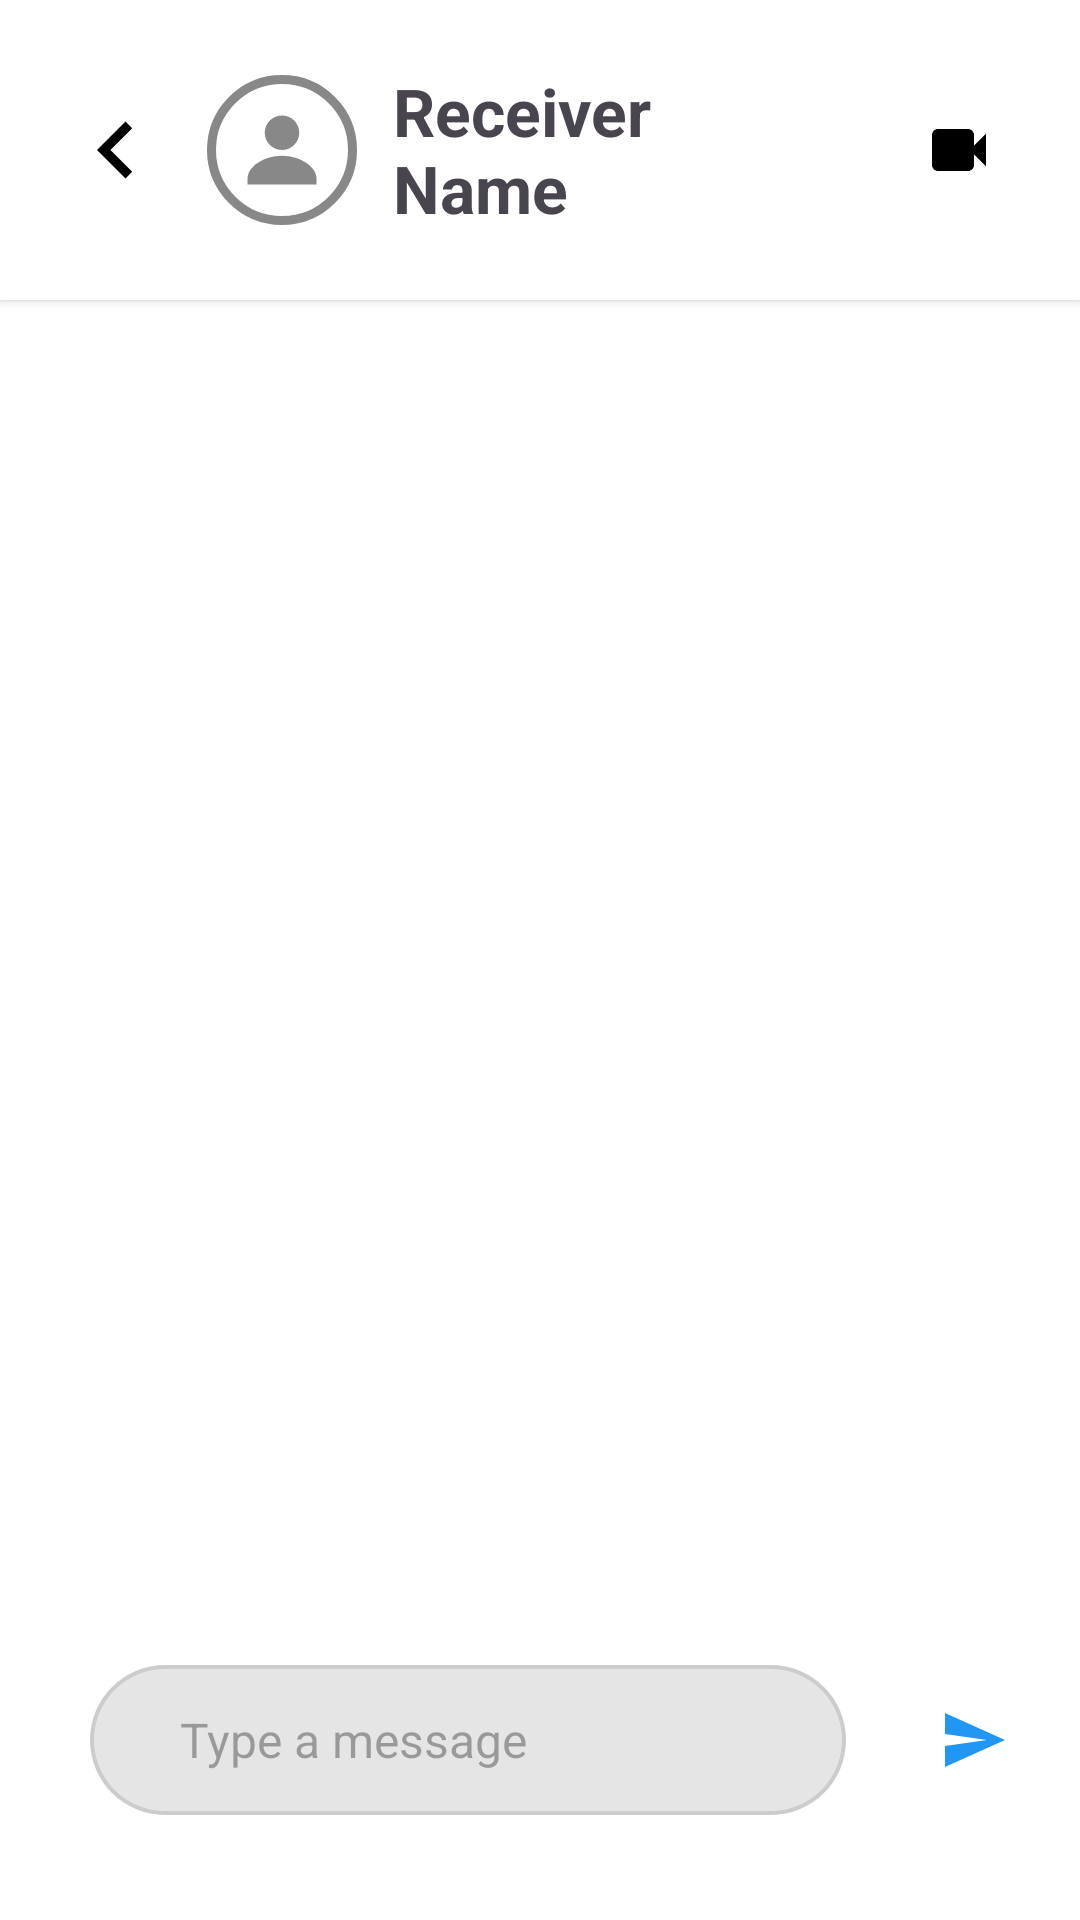

Where icons sit on this 1080 x 1920 app screen, as (x1, y1, x2, y2):
Back: (97, 121, 132, 179)
Send: (945, 1713, 1005, 1767)
Video Call: (932, 129, 986, 171)
